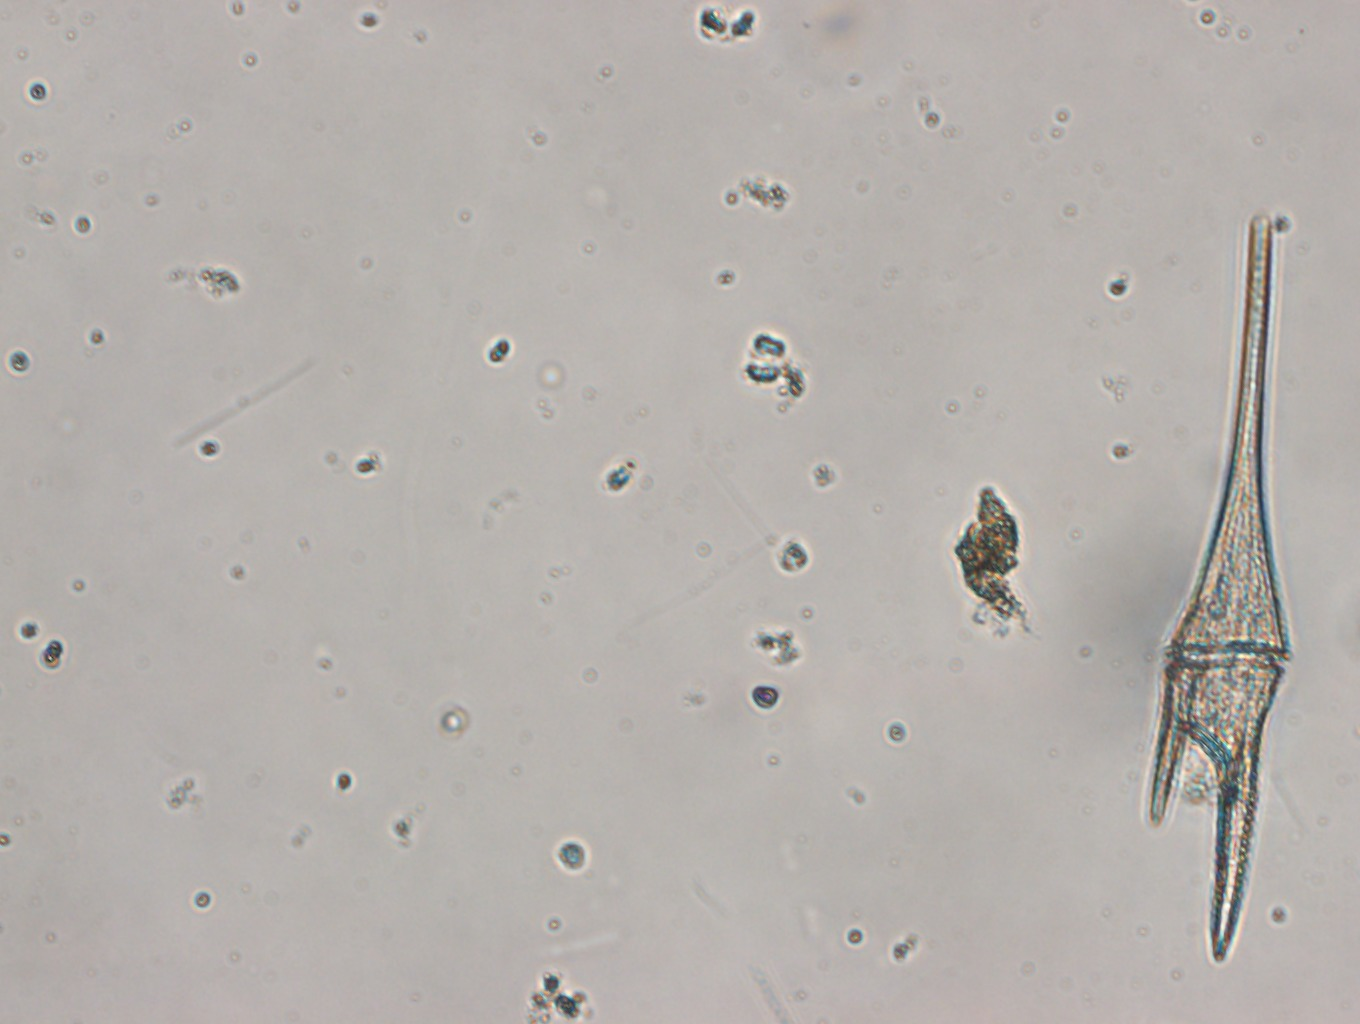ceratium furca: (1146, 212, 1293, 967)
